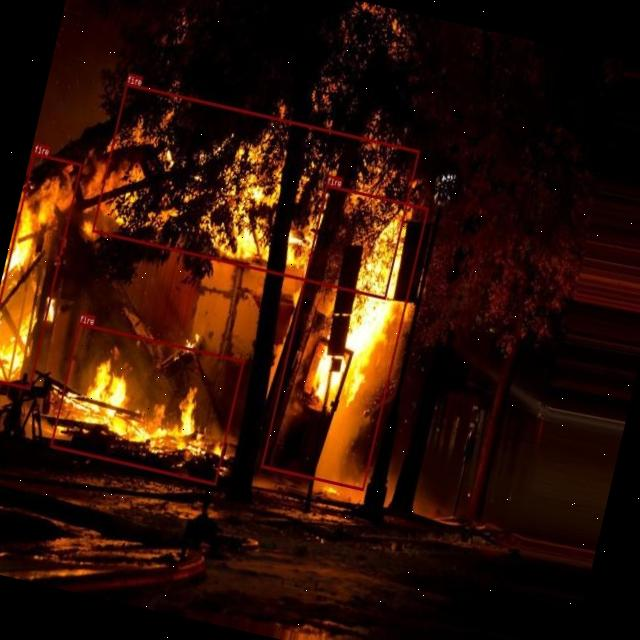fire: (91, 82, 419, 299), (261, 184, 428, 490), (49, 322, 244, 484), (0, 152, 81, 389)
